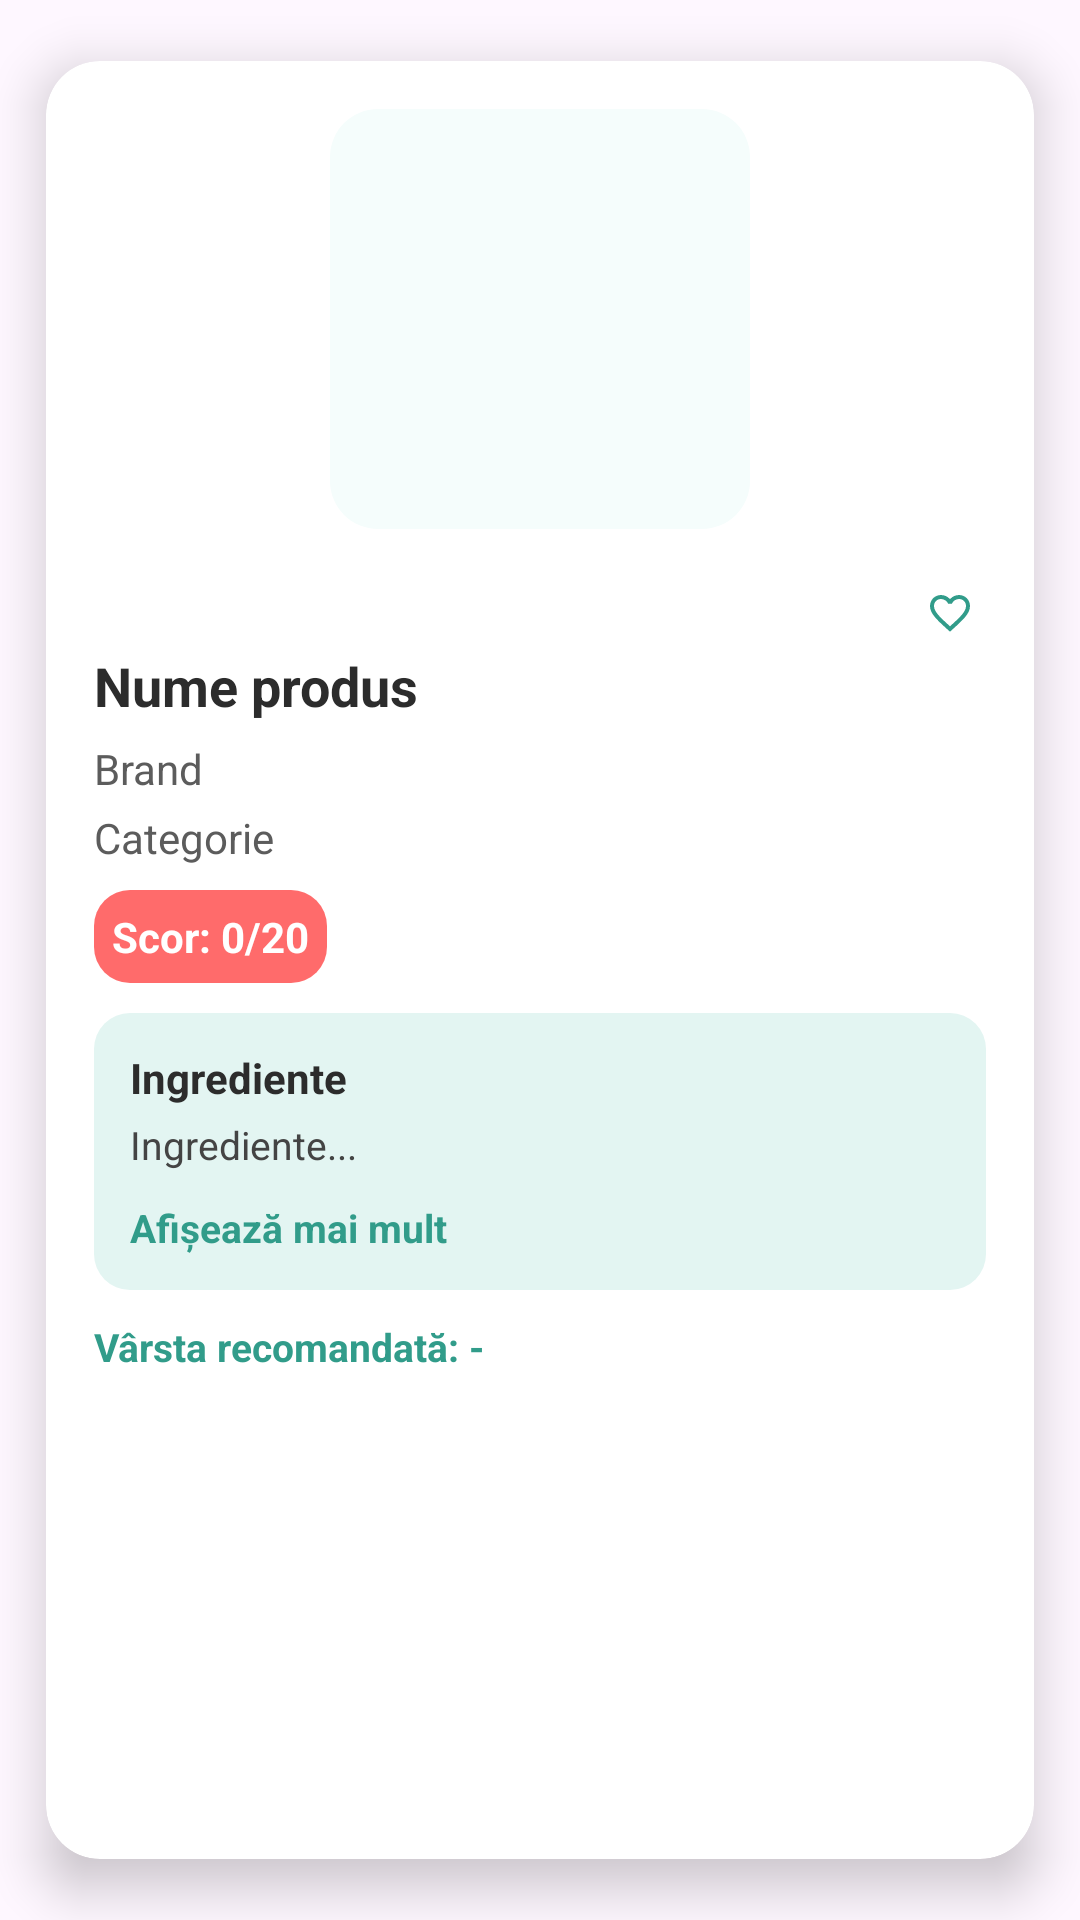

Where to tap for icons on this 1080 × 1920 app screen, as [x,y]:
Favorite: [950,613]
